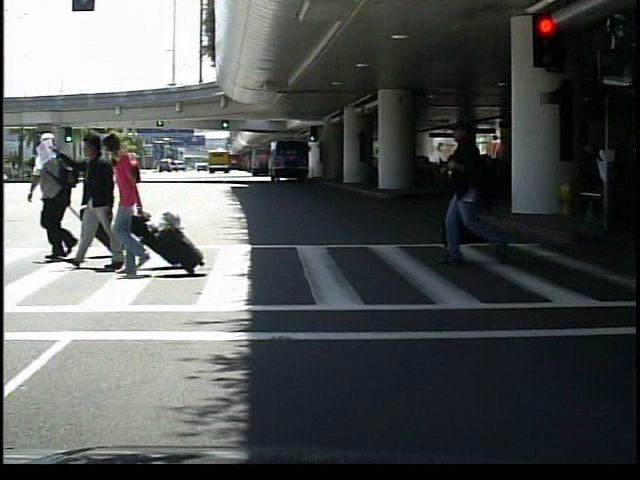person: (438, 113, 517, 265)
